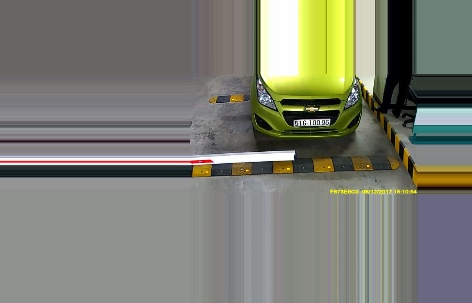plate: (293, 115, 330, 127)
